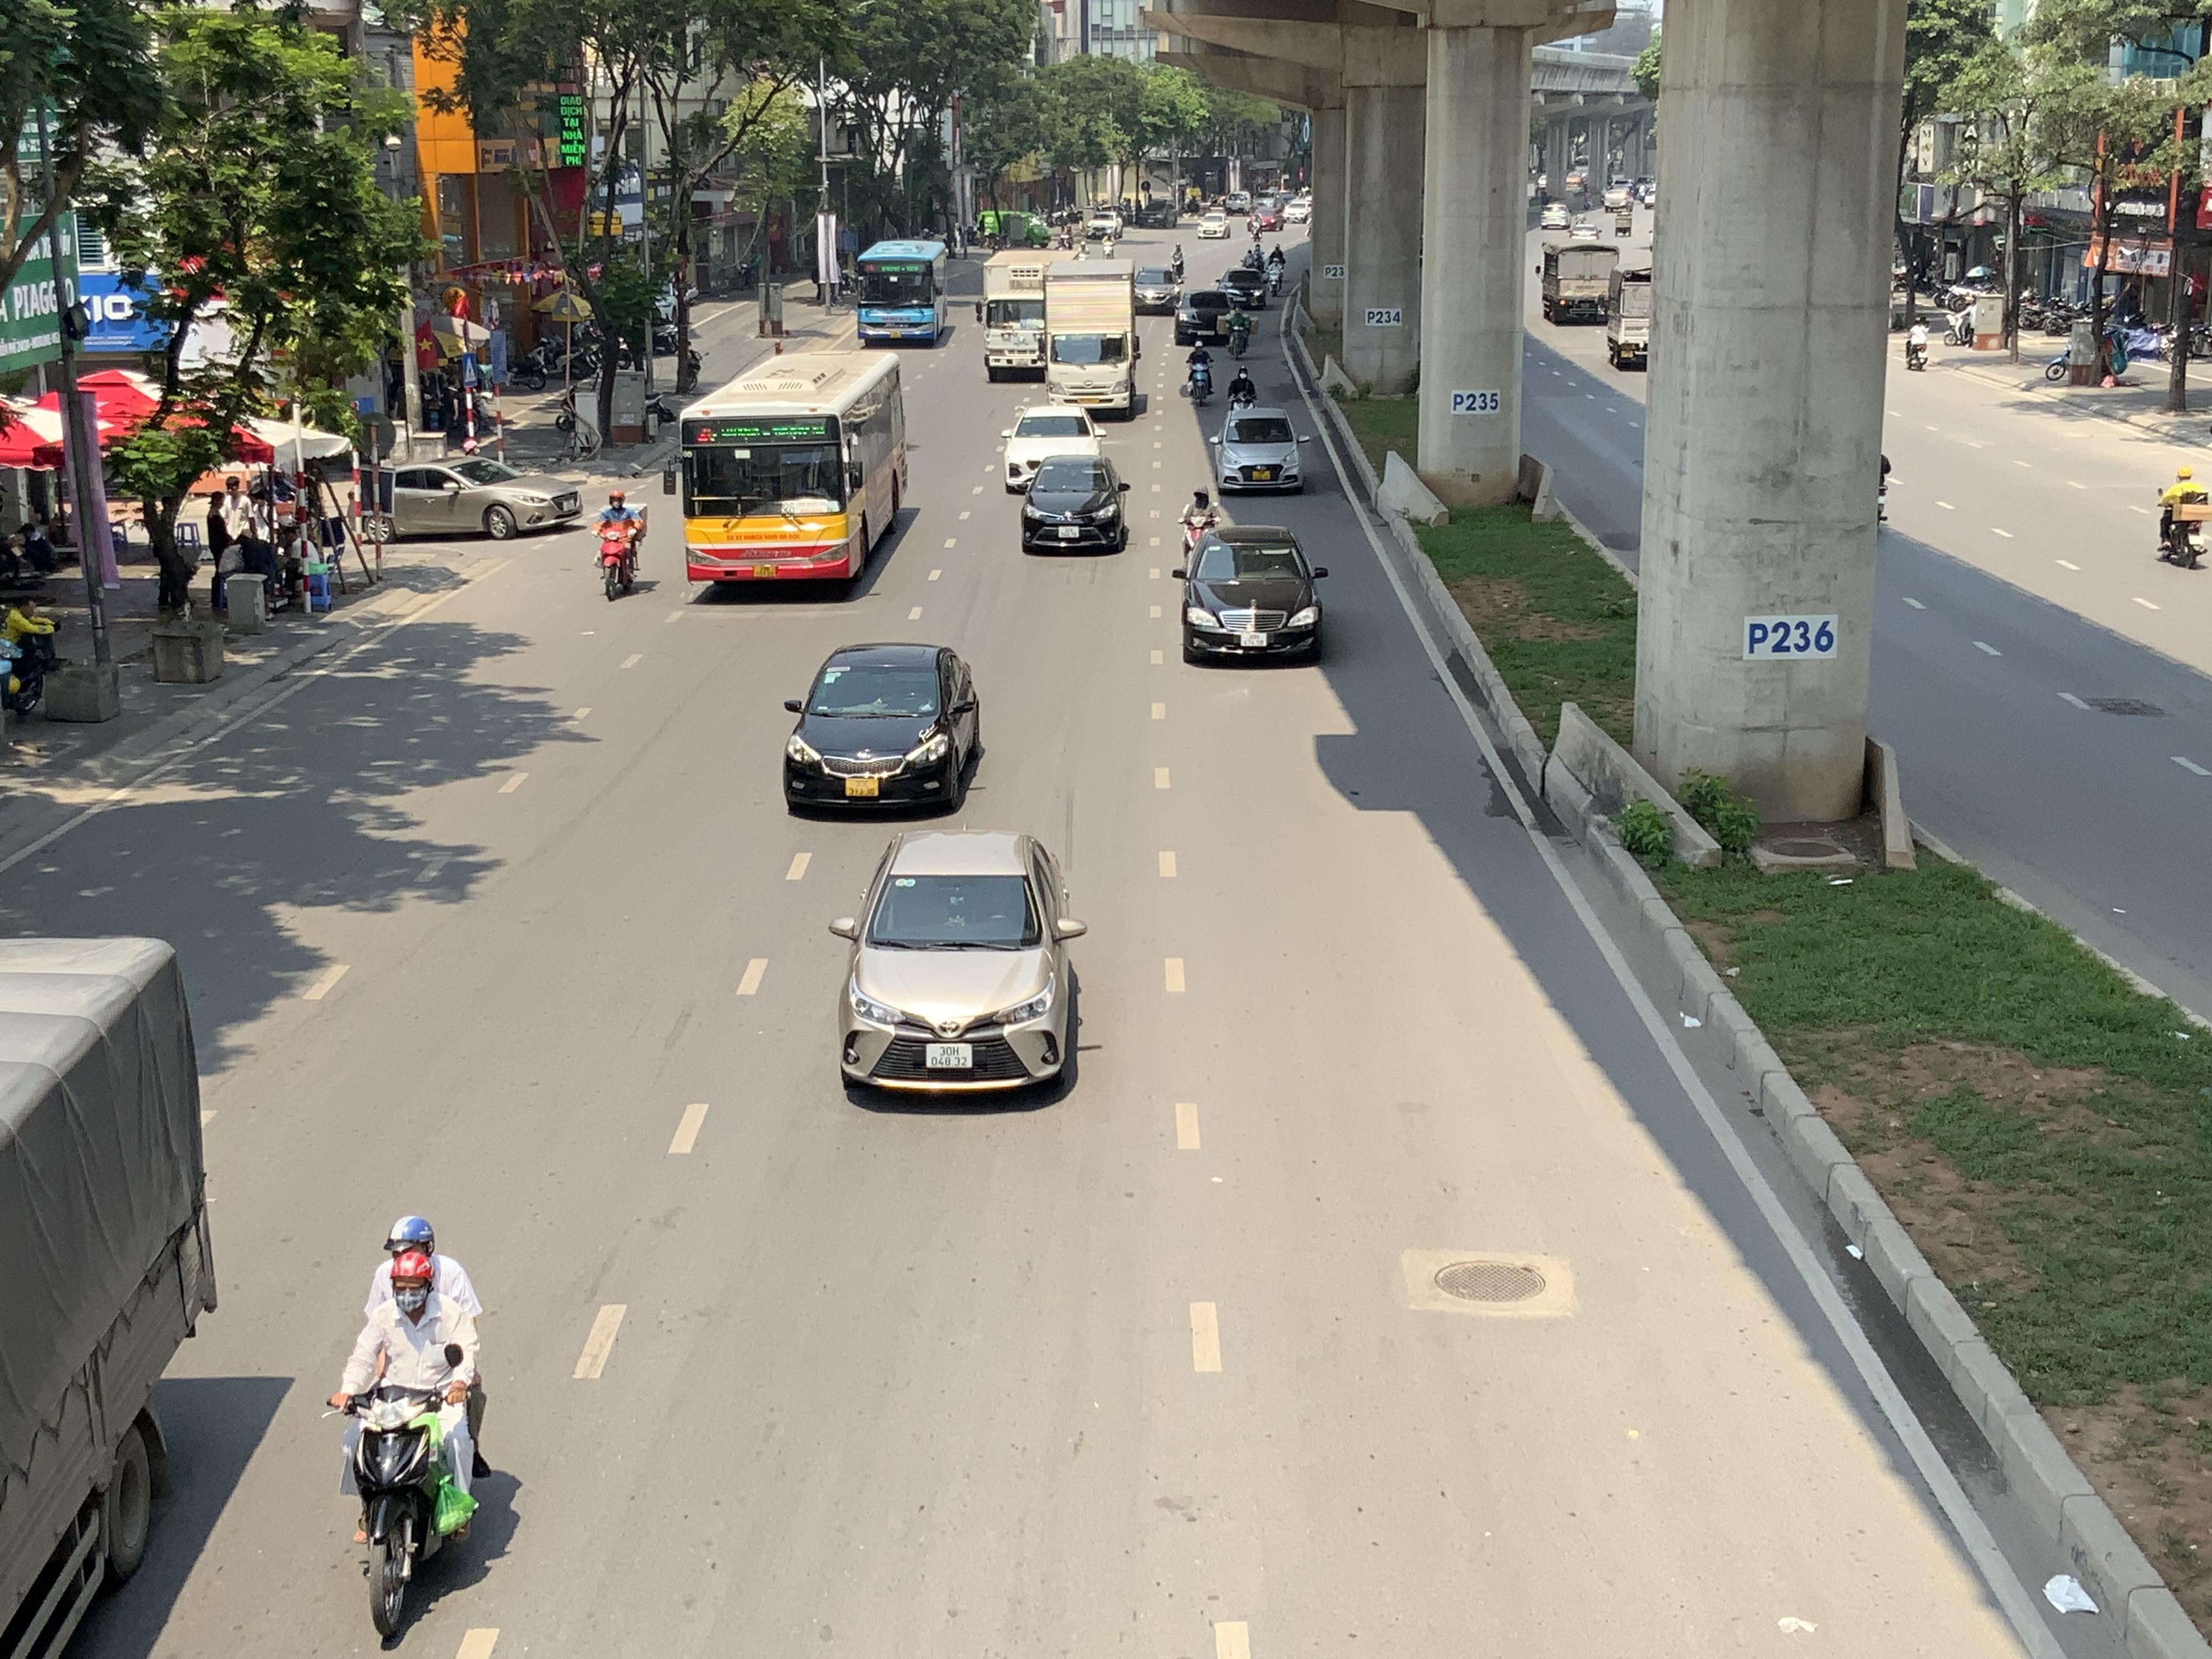BSV: (925, 1044, 972, 1068), (845, 777, 880, 796), (1240, 633, 1268, 647)
bus: (676, 347, 913, 592), (853, 237, 951, 347)
car: (829, 826, 1090, 1105), (780, 641, 984, 819), (1172, 521, 1331, 664), (376, 457, 582, 540), (1019, 453, 1132, 554), (1000, 403, 1106, 491), (1207, 404, 1306, 491), (1172, 288, 1240, 343), (1130, 263, 1181, 312)
motorbike: (326, 1215, 493, 1652), (0, 591, 57, 721), (2156, 464, 2212, 568), (596, 490, 644, 599), (1176, 486, 1226, 565), (1183, 340, 1214, 406), (1224, 295, 1251, 352), (1904, 314, 1930, 371), (1226, 362, 1258, 410)
truck: (1043, 256, 1143, 420), (981, 251, 1080, 380), (1536, 240, 1620, 324), (1606, 261, 1651, 366)
